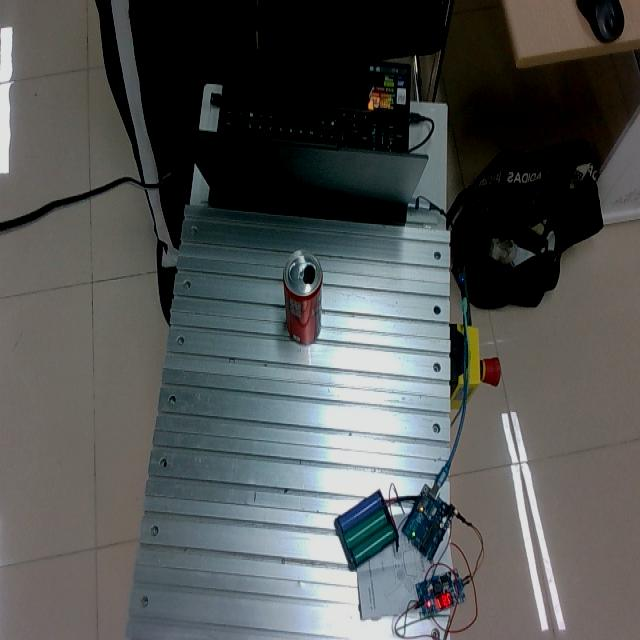coca: (282, 250, 324, 346)
